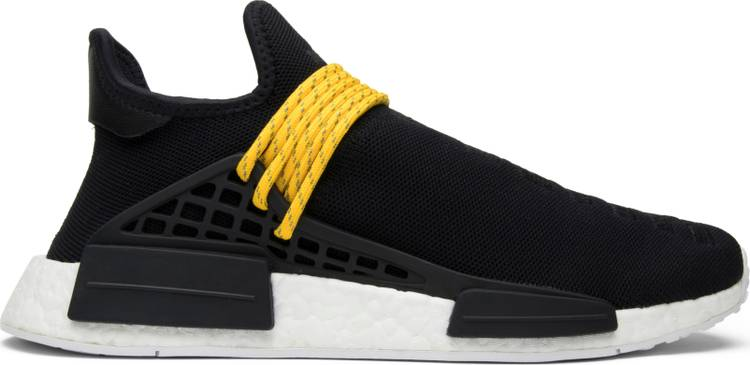adidas Pharrell Human Species: (2, 11, 749, 365)
